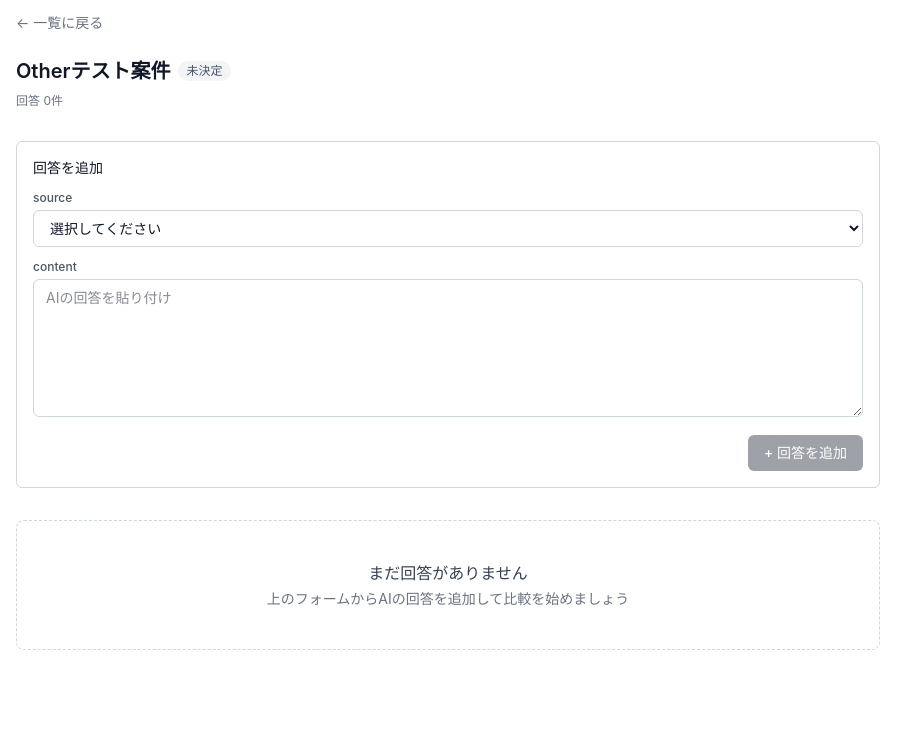
Test: ProjectDetailScreen › Otherのsource名を指定できる
The width and height of the screenshot is (897, 736).
Select "Other" in the dropdown labelled "source" at x=448, y=228, box left=33, top=210, right=863, bottom=247
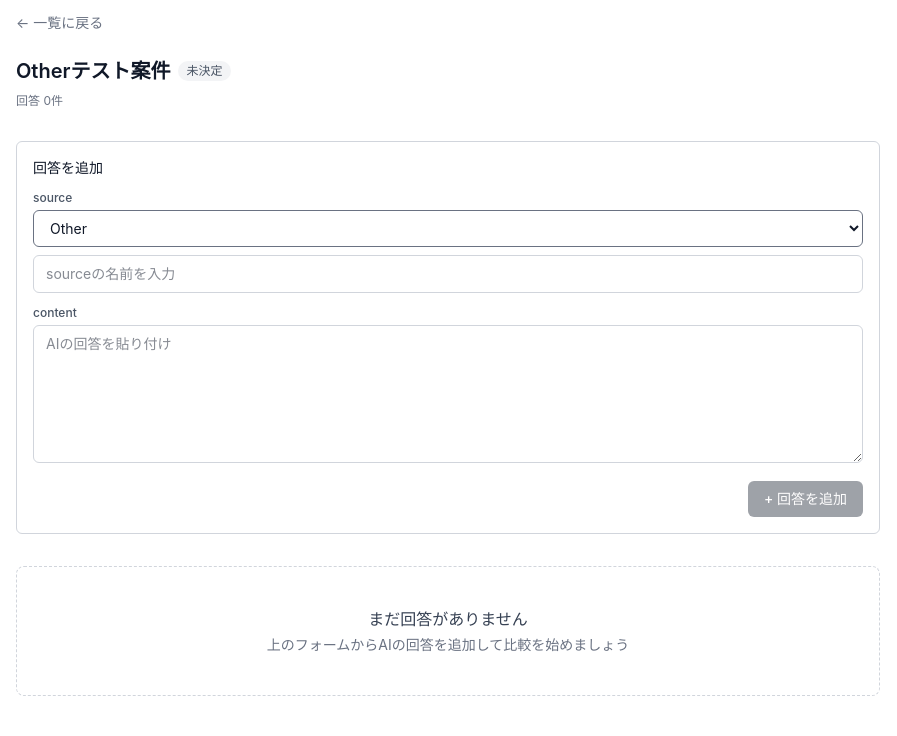
Type "Grok" into the field named "new-candidate-other-source" at x=448, y=274, box left=33, top=255, right=863, bottom=293
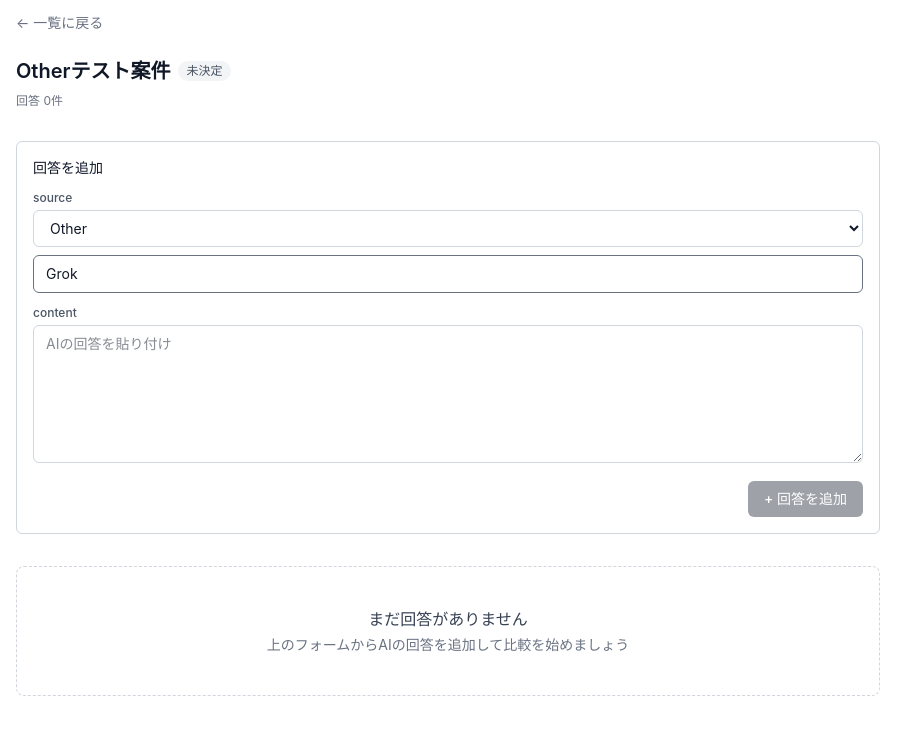
Type "Grokの回答本文" into the text box labelled "content" at x=448, y=394, box left=33, top=325, right=863, bottom=463
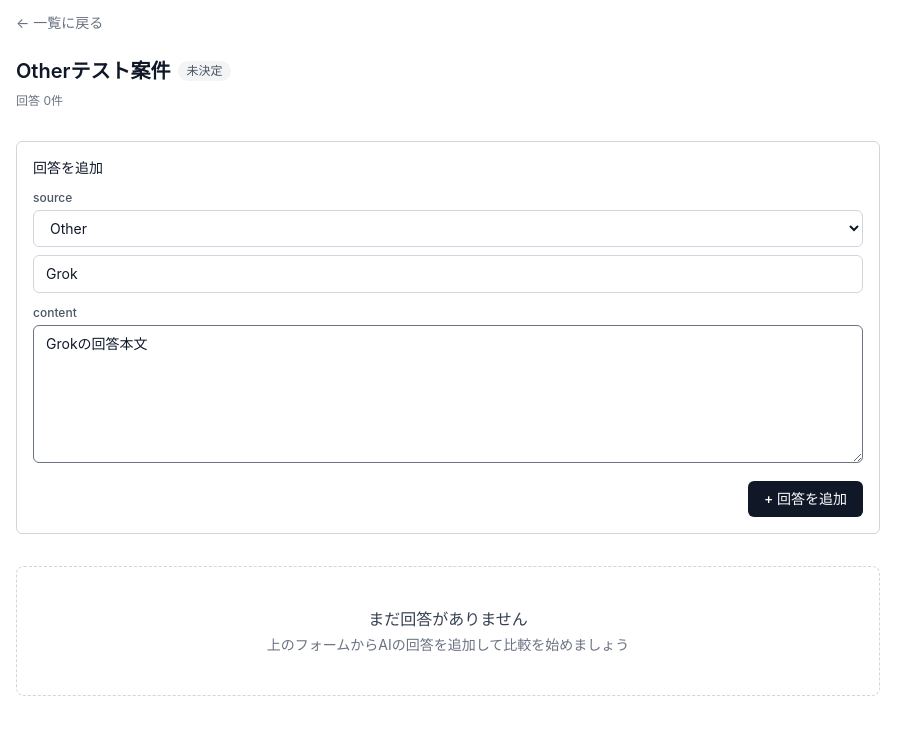
Click the button "+ 回答を追加" at x=805, y=499, box left=748, top=481, right=863, bottom=517
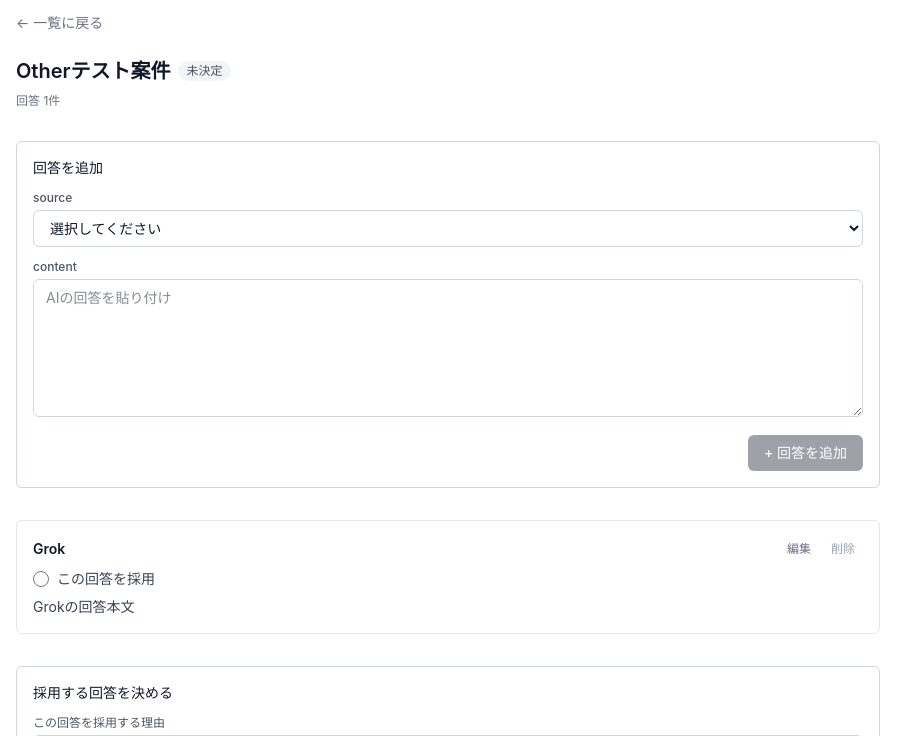
Expected: the text "Grok" is shown, left=33, top=539, right=65, bottom=559
Expected: the text "Grokの回答本文" is shown, left=33, top=598, right=135, bottom=615
